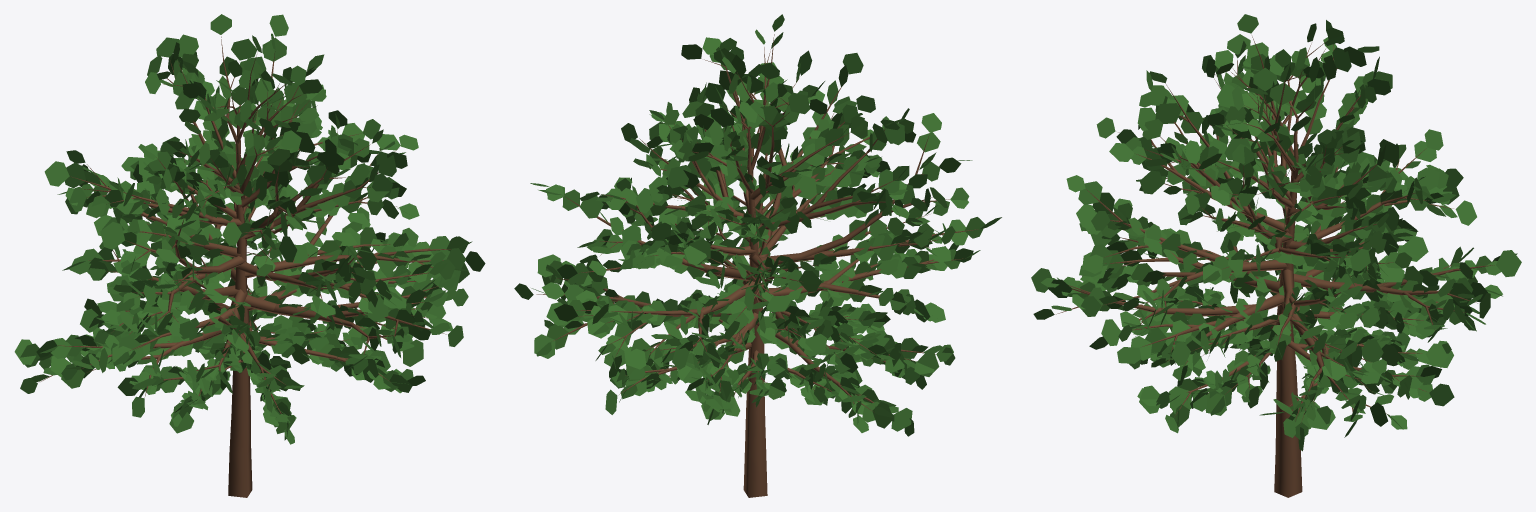
The model's file is Pin Oak.fbx.
3 views of the same model, side by side, from view 1: azimuth 30°, elevation 25°; view 2: azimuth 150°, elevation 25°; view 3: azimuth 270°, elevation 25° (orthographic). The views are drawn at different scales.
Visible parts, largest first — view 1: Pin Oak.001; view 2: Pin Oak.001; view 3: Pin Oak.001.
Boxes of the visible parts, left/top/right/bottom form: Pin Oak.001: left=14, top=14, right=485, bottom=497; Pin Oak.001: left=514, top=14, right=1001, bottom=497; Pin Oak.001: left=1031, top=14, right=1521, bottom=497.
Size of the model in its own units: 1399 by 1549 by 1450.
